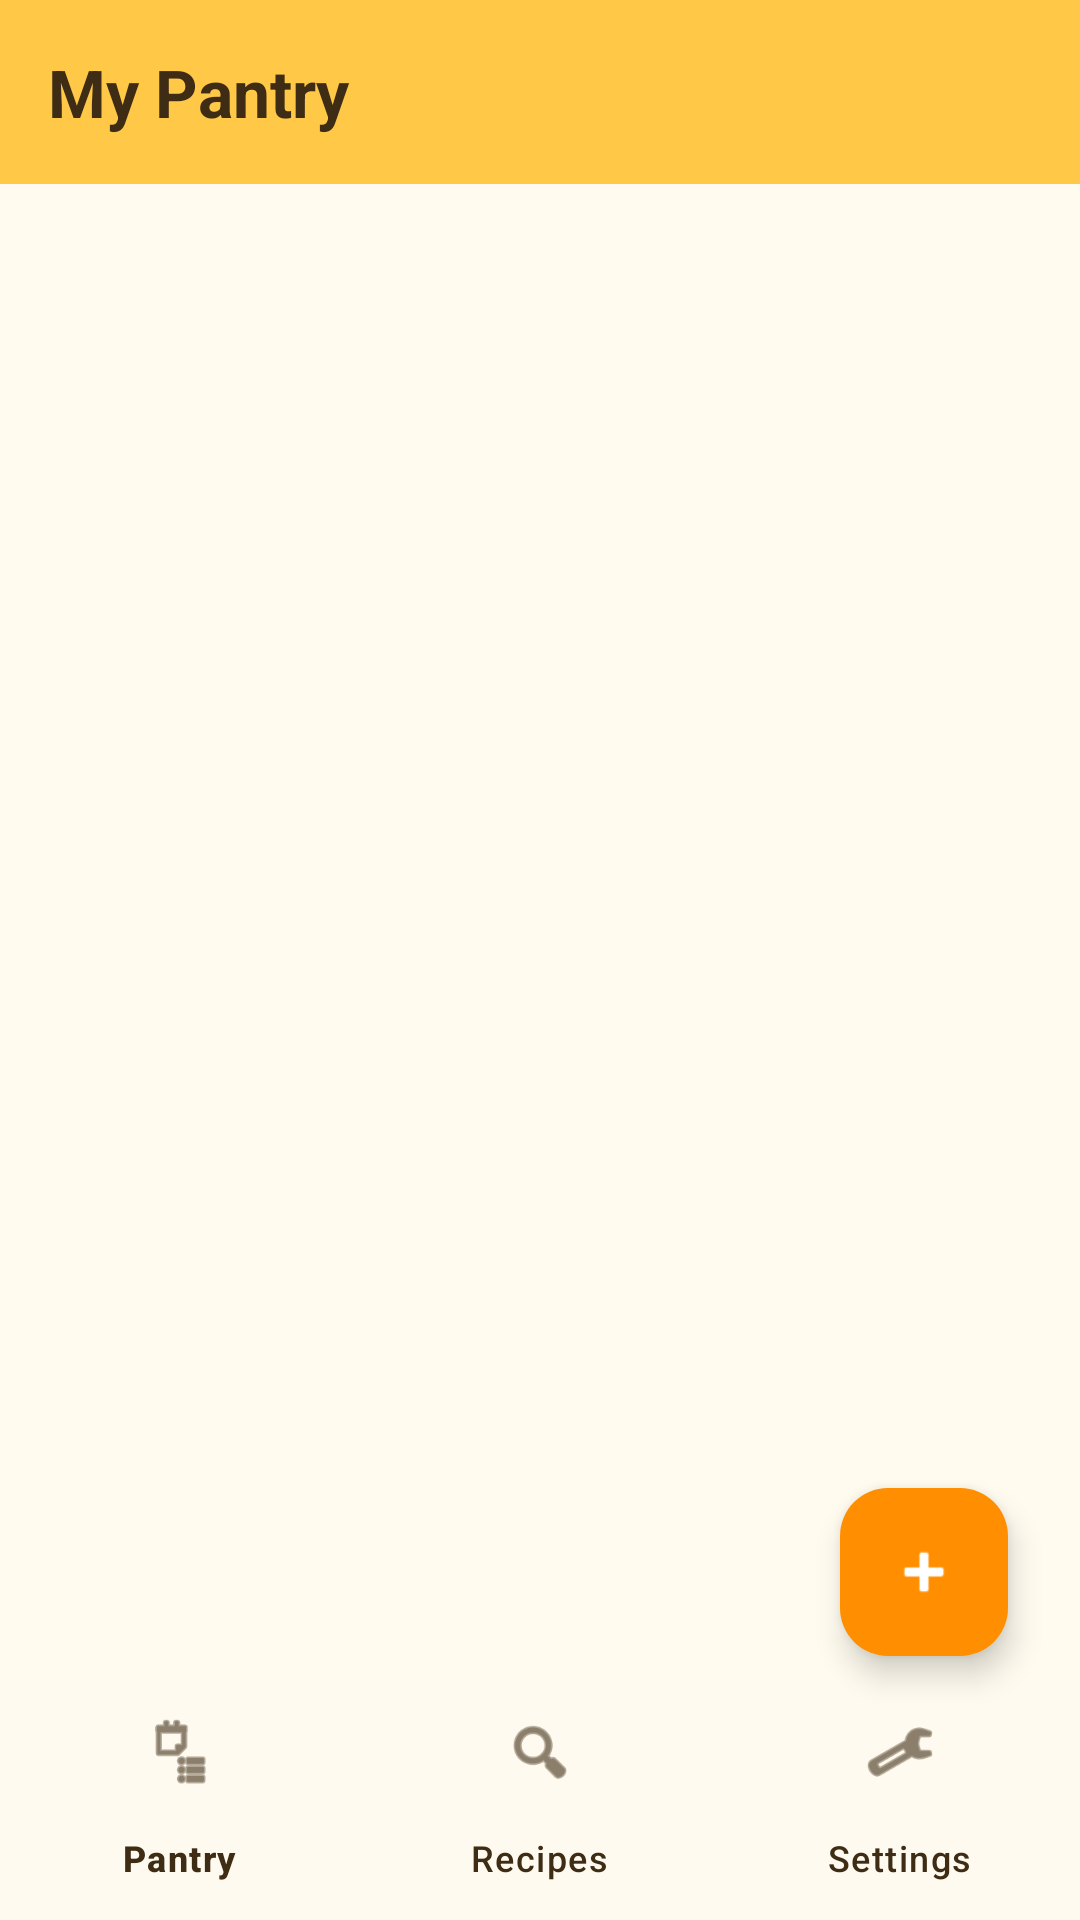

Where to tap for icons on this 1080 × 1920 app screen, as (x=x, y=y):
Add ingredient: (x=924, y=1572)
